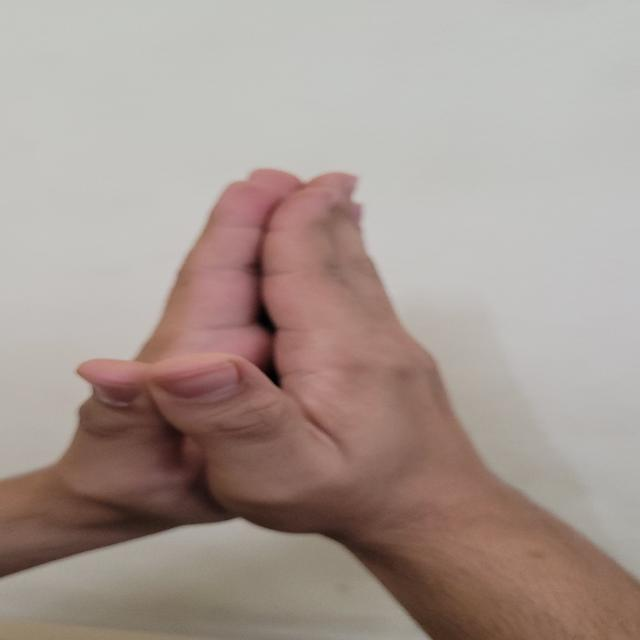Thank You: (32, 128, 576, 504)
